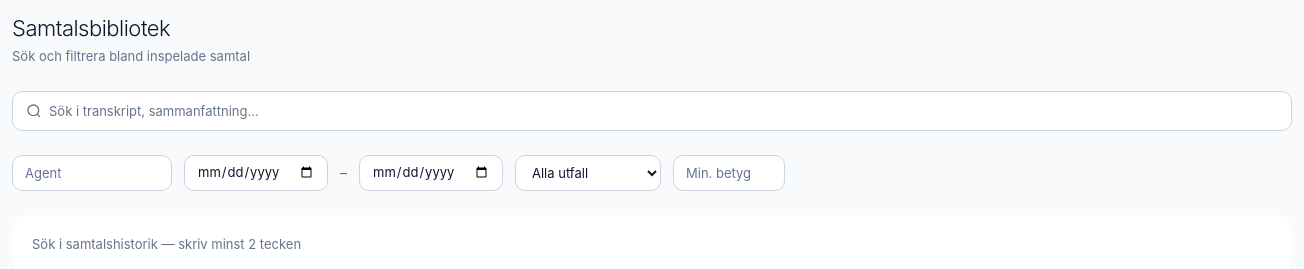
it: CallLibraryPage › shows empty results message when search returns no results
Type "xyz123" into the search field named "sök samtal". click: [652, 110]
box: [12, 90, 1292, 130]
Wait 350 ms
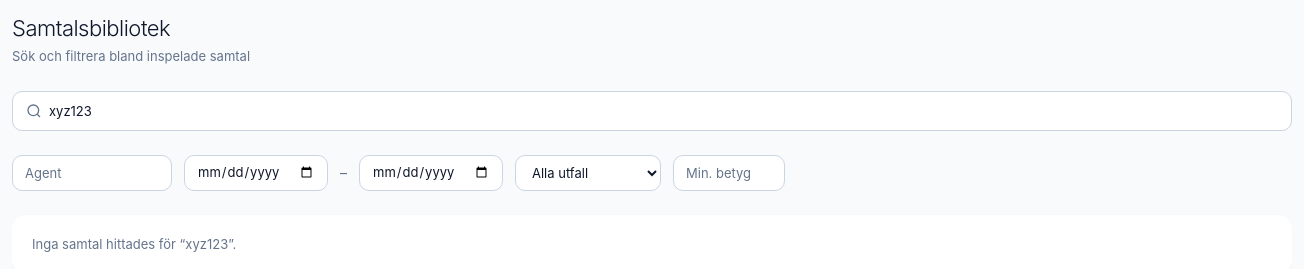
Result: the text "Inga samtal hittades för “xyz123”." is shown at [32, 236, 236, 252]
